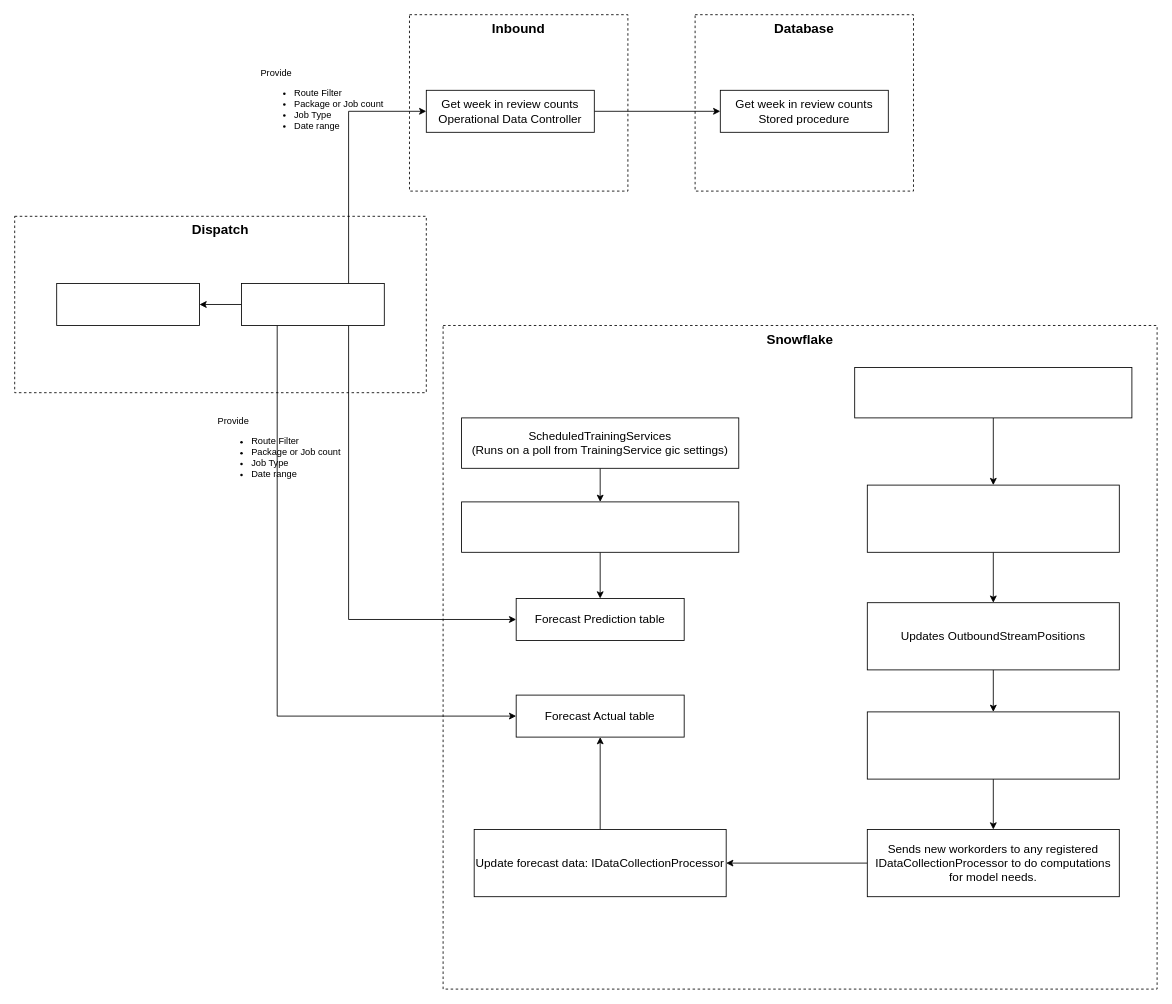
This 1172x1004 diagram has some shape labels left out. The shapes that lost their labels are listed below. From the top down, each one's centre as x and y in pixels, then its label:
the point at 128,304: Week in Review Widget
the point at 312,304: Week in Review Widget Store
the point at 993,392: OutboundDatacollection (Runs polling data in the Datacollection gic settings)
the point at 600,526: Generates the forecast predictions for the coming week.
the point at 992,518: Gets from Outbound API and inserts into DimRoutes + DimManifests + DimPackages
the point at 992,745: Updates WorkOrderTable
